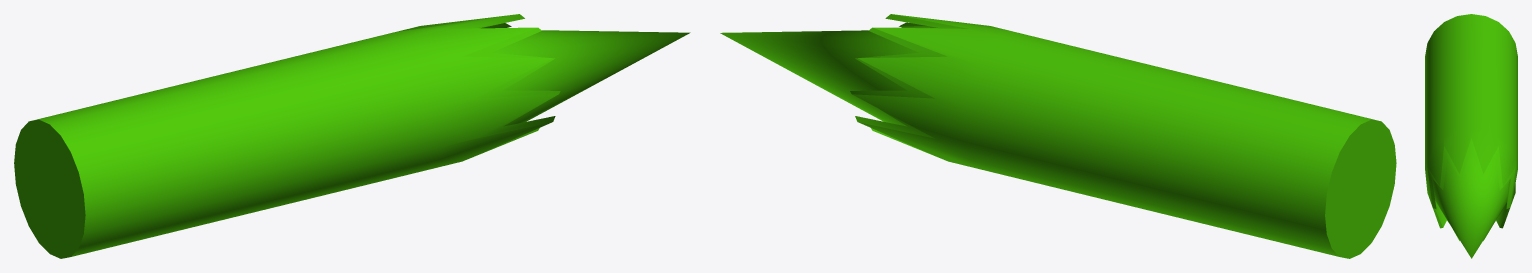
File: Railgun_Projectile.fbx
The picture shows the model from 3 angles, left to right: view 1: azimuth 30°, elevation 25°; view 2: azimuth 150°, elevation 25°; view 3: azimuth 270°, elevation 25°; orthographic projection. The views are drawn at different scales.
Visible parts, largest first — view 1: pPipe89; view 2: pPipe89; view 3: pPipe89.
Part boxes in pixels (bbox=[...]): pPipe89: bbox=[14, 14, 690, 258]; pPipe89: bbox=[720, 14, 1396, 258]; pPipe89: bbox=[1425, 14, 1517, 258].
Bounding box in the file's own units: 4.24 × 0.8186 × 0.8186.
